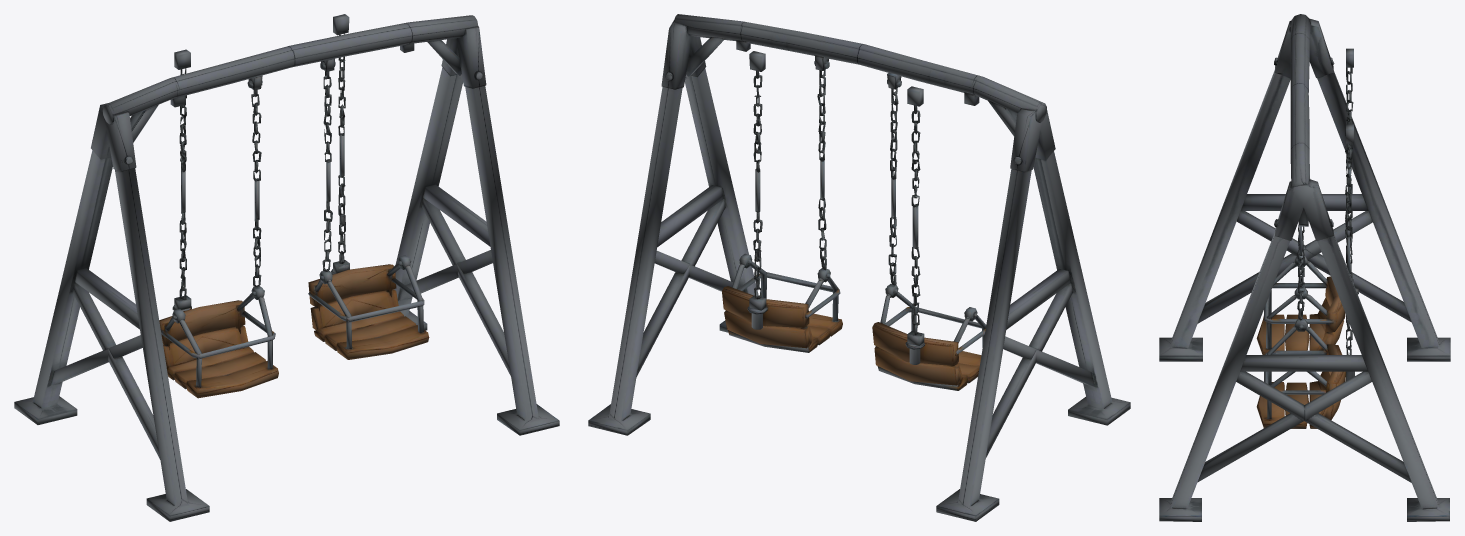
3 renders of one model, left to right at view 1: azimuth 30°, elevation 25°; view 2: azimuth 150°, elevation 25°; view 3: azimuth 270°, elevation 25°, orthographic. The views are drawn at different scales.
Visible parts, largest first — view 1: tripo_node_55cdea24-4c6d-4f82-995d-a41c465ffe10; view 2: tripo_node_55cdea24-4c6d-4f82-995d-a41c465ffe10; view 3: tripo_node_55cdea24-4c6d-4f82-995d-a41c465ffe10.
Boxes of the visible parts, <box> form: tripo_node_55cdea24-4c6d-4f82-995d-a41c465ffe10: <box>14,14,559,521</box>; tripo_node_55cdea24-4c6d-4f82-995d-a41c465ffe10: <box>588,14,1130,521</box>; tripo_node_55cdea24-4c6d-4f82-995d-a41c465ffe10: <box>1159,14,1450,521</box>.
Bounding box in the file's own units: 0.998 × 0.9121 × 0.6895.
1 material, 1 textured.
